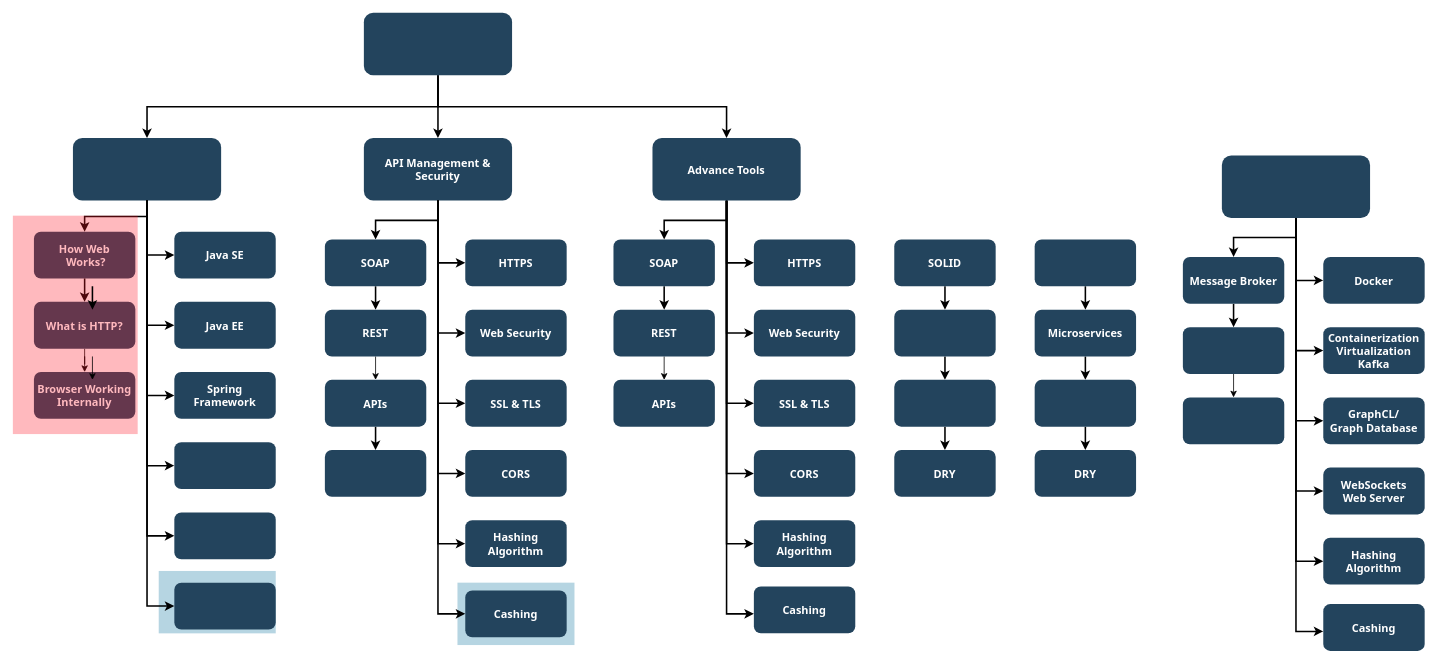
This 1445x664 diagram has some shape labels left out. The centre of each missing label's shape, as x and y in pixels:
Architectural Pattern: the point at 1085,262
Backend Developer: the point at 147,169
Backend Developer Roadmap: the point at 437,43
CI/CD & Deployements: the point at 1295,186
JSON: the point at 375,473
KISS: the point at 944,332
RabitMQ: the point at 1233,350
Search Engines: the point at 1085,402
Yagni: the point at 944,402
